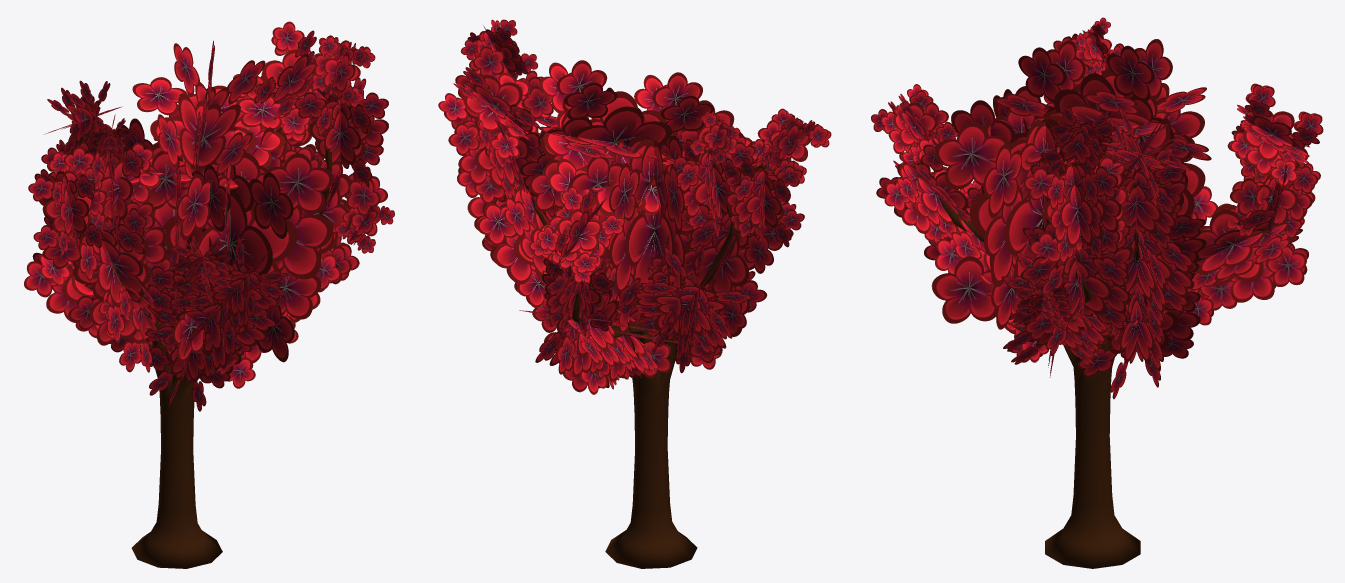
Rendered from CherryBlossom.fbx.
The picture shows the model from 3 angles, left to right: view 1: azimuth 30°, elevation 25°; view 2: azimuth 150°, elevation 25°; view 3: azimuth 270°, elevation 25°; orthographic projection. The views are drawn at different scales.
Parts seen in each view (by area): view 1: Blossoms, Tree; view 2: Blossoms, Tree; view 3: Blossoms, Tree.
Boxes of the visible parts, box(x1,y1,x2,y2) form: Blossoms: box(24, 21, 394, 411); Tree: box(80, 127, 332, 568); Blossoms: box(438, 19, 831, 394); Tree: box(531, 164, 766, 568); Blossoms: box(871, 17, 1323, 399); Tree: box(933, 170, 1266, 568).
Size of the model in its own units: 2156 by 2922 by 2286.
